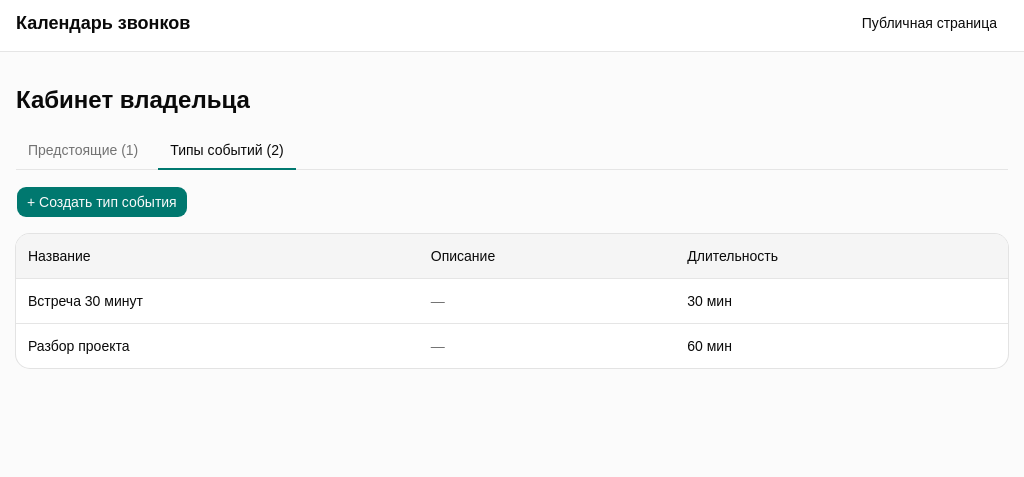
Scenario: раздел Owner: предстоящие Booking › во вкладке «Типы событий» тоже виден счётчик предстоящих; переход по вкладке открывает список
The width and height of the screenshot is (1024, 477).
Click the link "Предстоящие (1)": (83, 150) [28, 142, 138, 158]
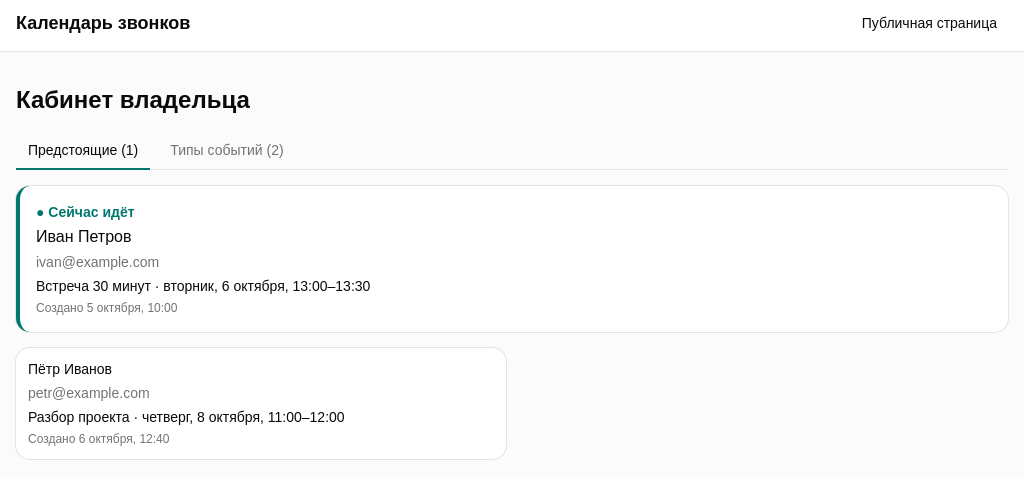
Check: the list item shows "Пётр Иванов", box [28, 361, 112, 377]
